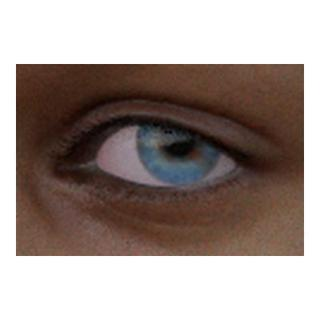pupil: (165, 127, 193, 155)
